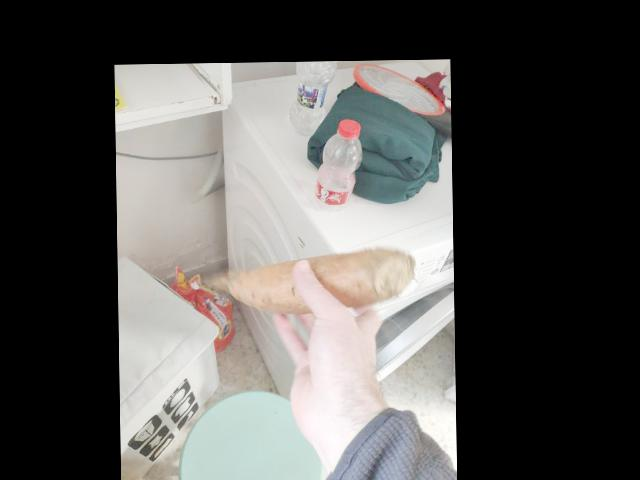sweet_potato: (229, 265, 387, 312)
